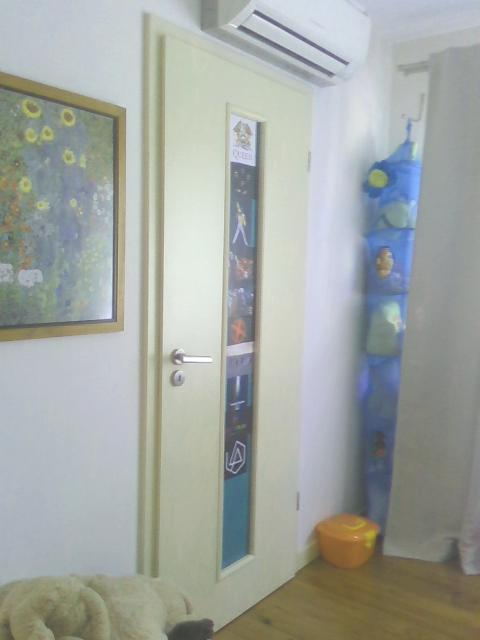closed_door: (135, 11, 309, 639)
